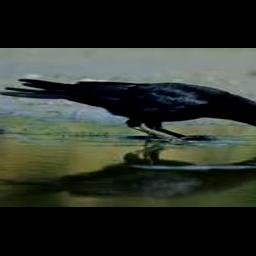Crow: (0, 78, 256, 141)
